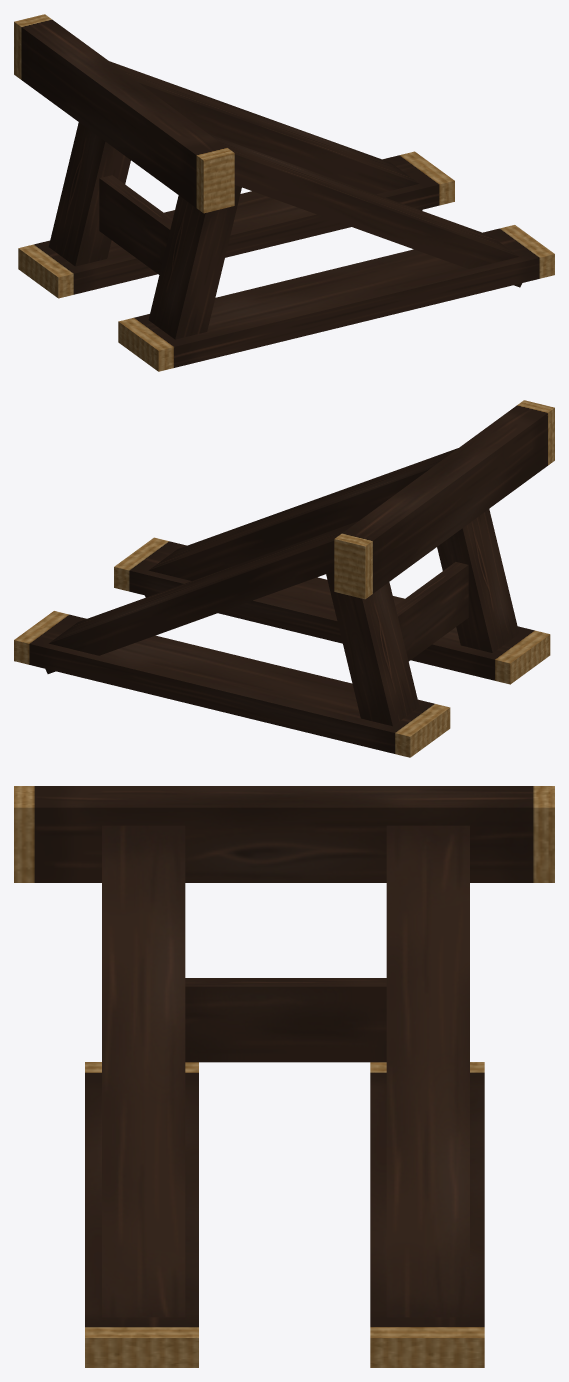
Rendered from Castle_Cart_buffer.fbx.
3 renders of one model, top to bottom at view 1: azimuth 30°, elevation 25°; view 2: azimuth 150°, elevation 25°; view 3: azimuth 270°, elevation 25°, orthographic. The views are drawn at different scales.
Parts seen in each view (by area): view 1: Cart_buffer; view 2: Cart_buffer; view 3: Cart_buffer.
Part boxes in pixels (x1,y1,x2,y2): Cart_buffer: (14,14,554,371); Cart_buffer: (14,400,554,757); Cart_buffer: (14,786,554,1367).
Bounding box in the file's own units: 1.57 × 0.8862 × 1.3.
